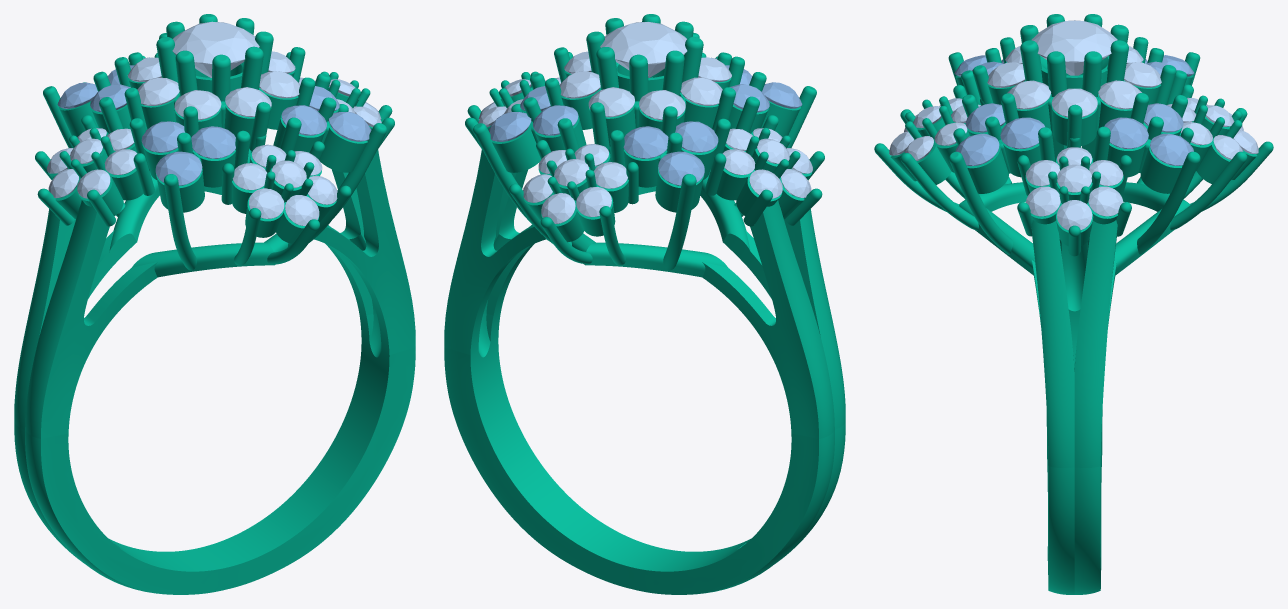
3 renders of one model, left to right at view 1: azimuth 30°, elevation 25°; view 2: azimuth 150°, elevation 25°; view 3: azimuth 270°, elevation 25°, orthographic.
Parts seen in each view (by area): view 1: ja0744.3dm, Diamond_Round (×22), Bezel (×12); view 2: ja0744.3dm, Diamond_Round (×22), Bezel (×12); view 3: ja0744.3dm, Diamond_Round (×18), Bezel (×8).
Boxes of the visible parts, <box> form: ja0744.3dm: <box>14,14,415,594</box>; Diamond_Round (×22): <box>48,21,371,225</box>; Bezel (×12): <box>59,62,367,243</box>; ja0744.3dm: <box>444,14,845,594</box>; Diamond_Round (×22): <box>488,22,811,223</box>; Bezel (×12): <box>492,62,800,242</box>; ja0744.3dm: <box>874,14,1273,594</box>; Diamond_Round (×18): <box>955,20,1193,230</box>; Bezel (×8): <box>916,56,1230,193</box>.
Size of the model in its own units: 2.07 by 2.85 by 1.9.
